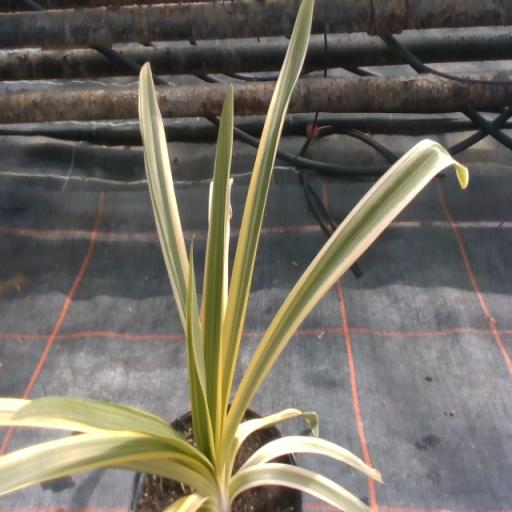Agapanthus-praecox: (228, 140, 468, 432), (222, 0, 314, 396), (138, 64, 188, 325), (0, 431, 204, 494), (203, 89, 233, 439), (230, 463, 370, 511), (6, 397, 177, 435), (242, 436, 381, 481), (186, 242, 214, 461), (228, 409, 317, 461), (164, 493, 209, 511)
